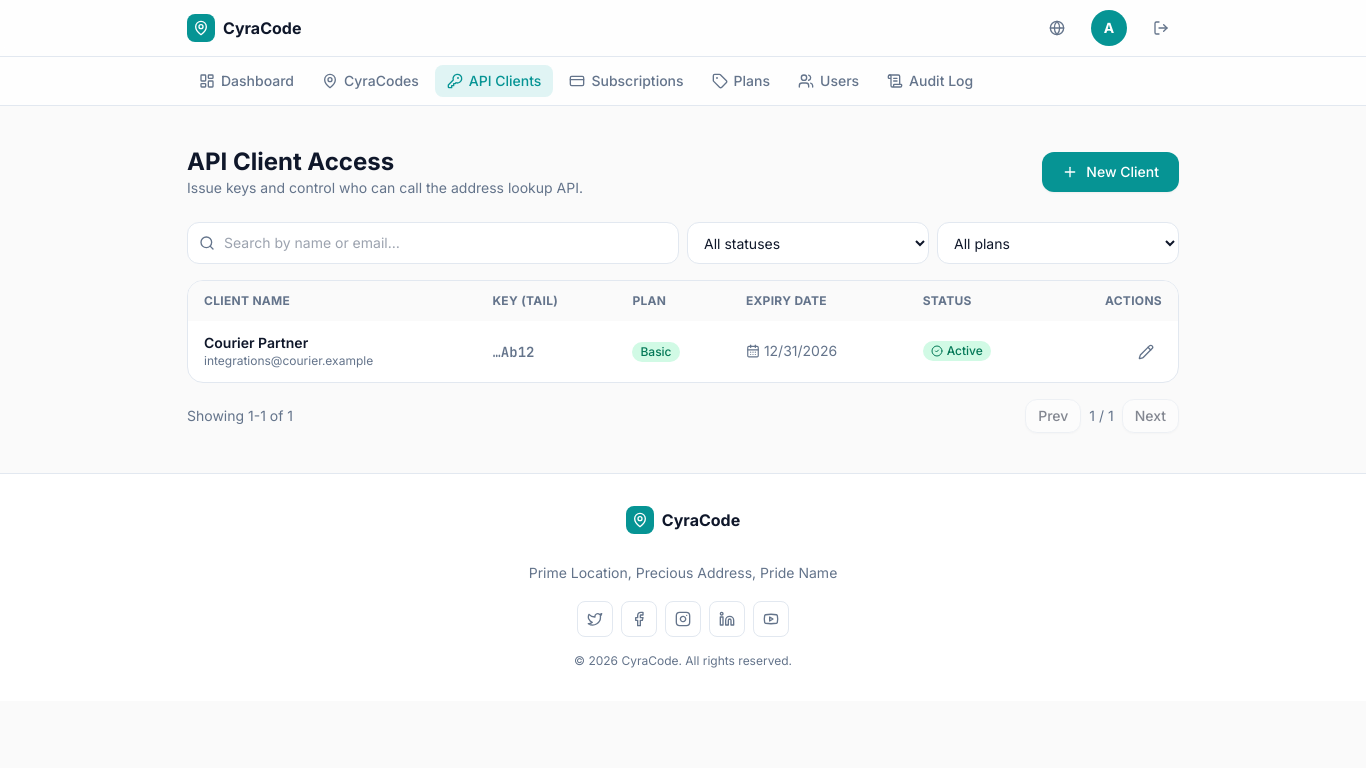
Test: AdminClients › creates a client and reveals the API key exactly once
The image size is (1366, 768).
Expected: the text "Courier Partner" is shown, [204,334,308,351]
Click the button "New Client". click: (1111, 172)
box: [1042,152,1179,192]
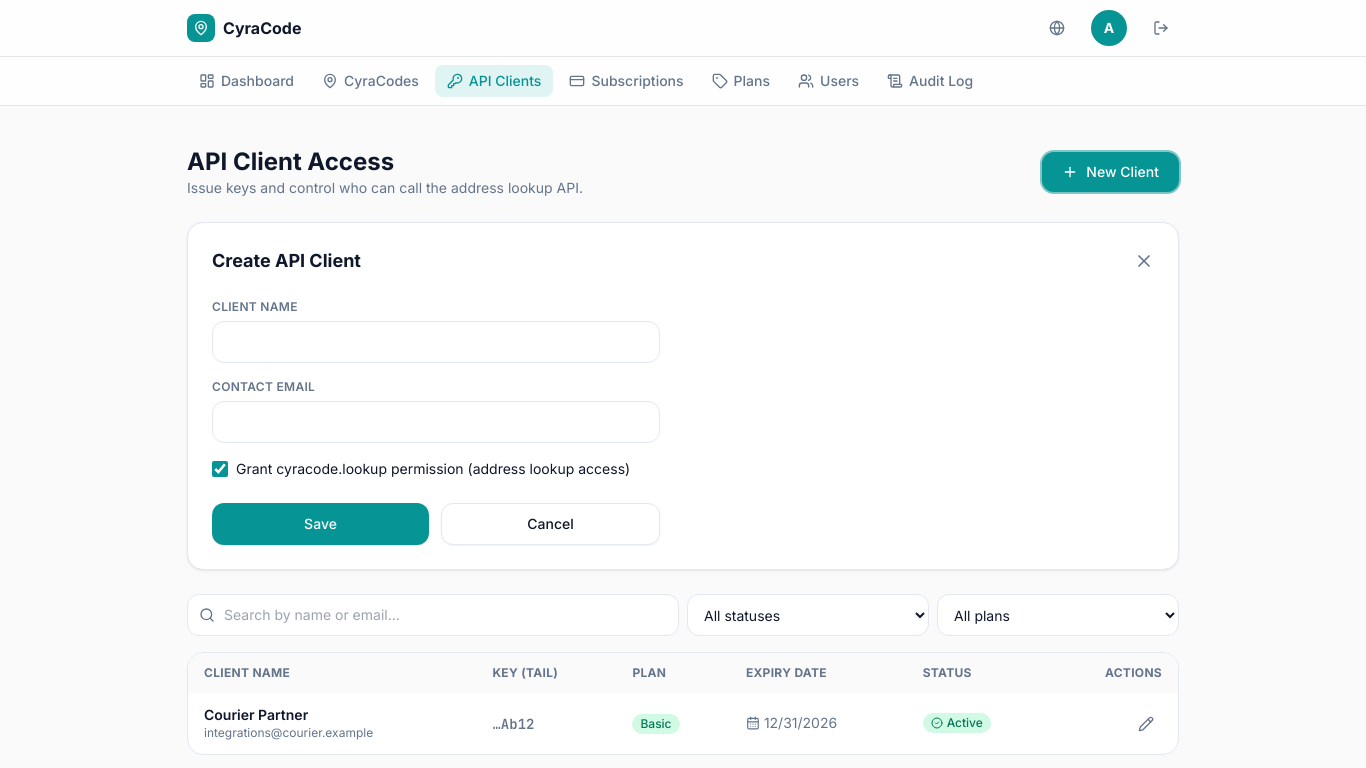
Type "Logistics Co" into the field labelled "Client name". click: (436, 342)
box: [212,321,660,363]
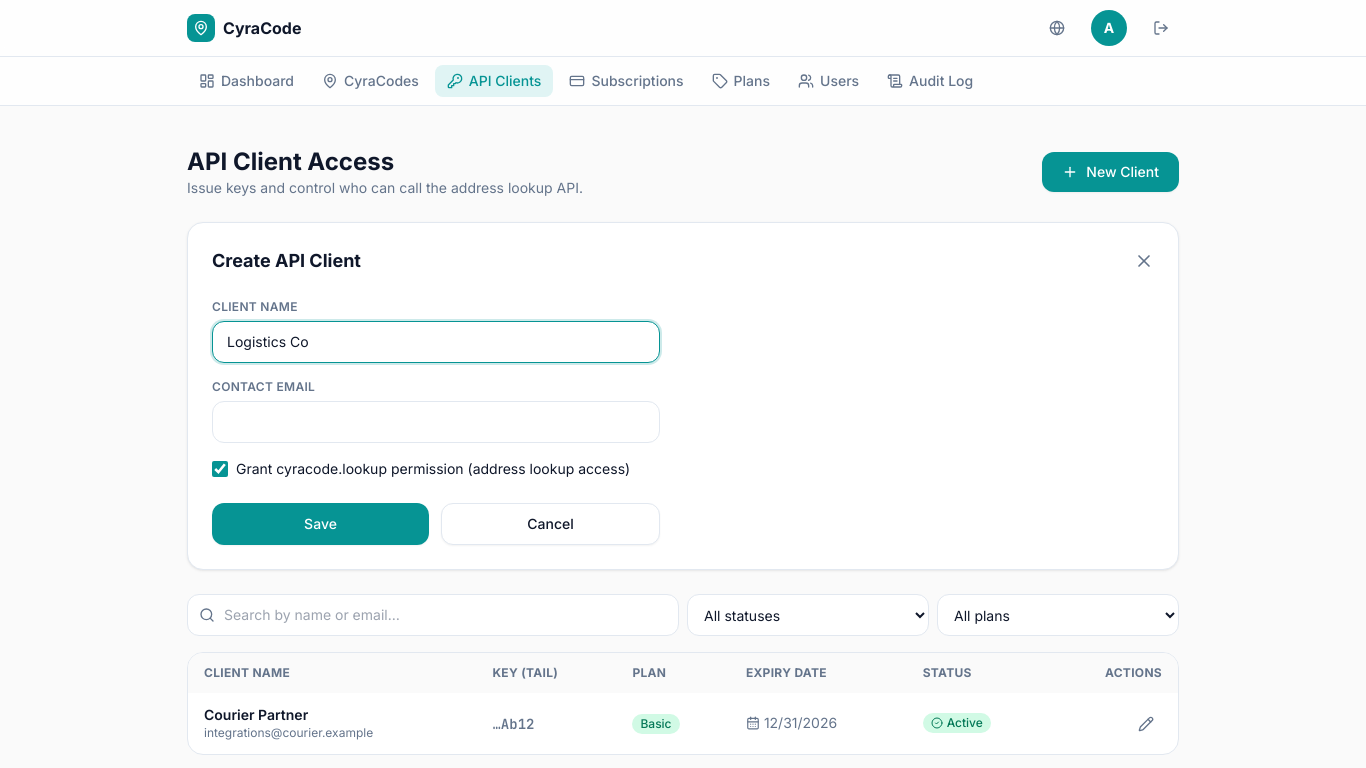
Type "ops@logistics.example" into the field labelled "Contact email". click: (436, 422)
box: [212,401,660,443]
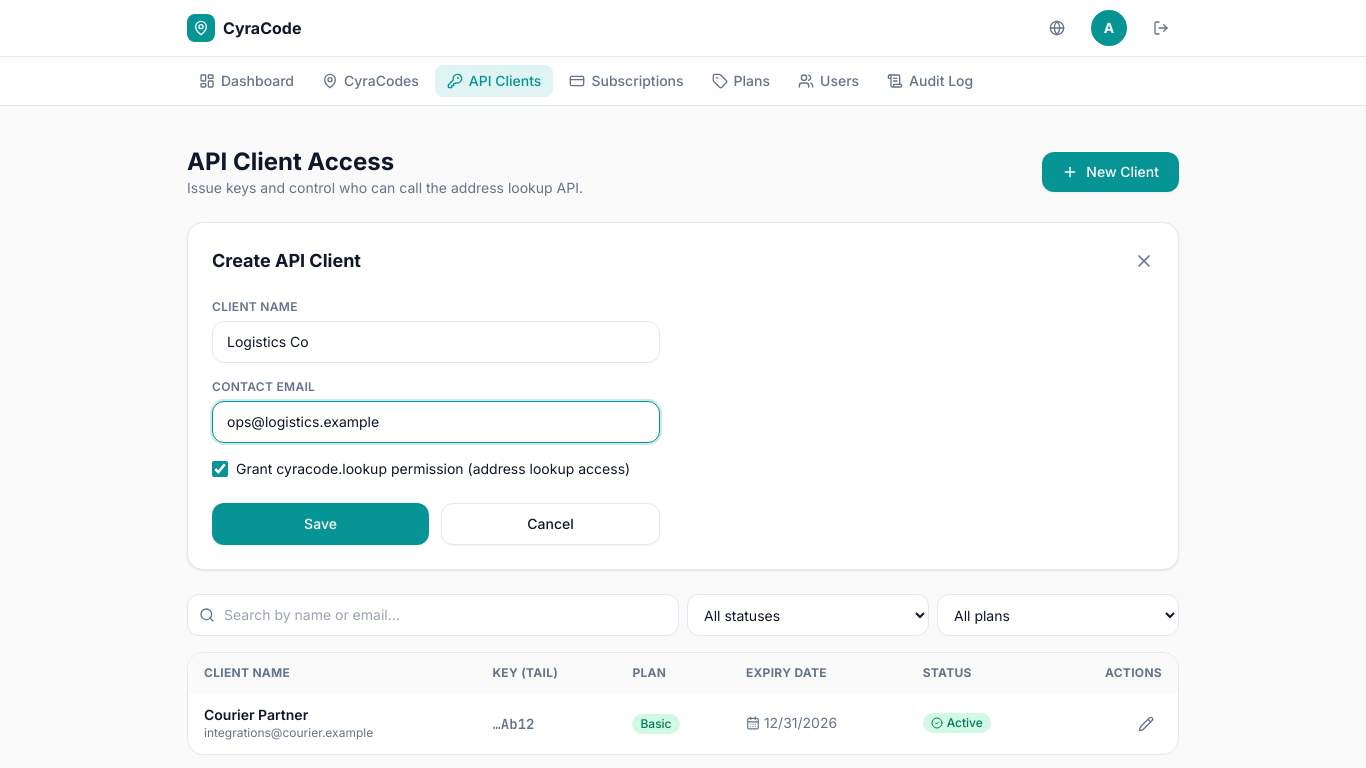
Click the button "Save". click: (320, 524)
box: [212,503,429,545]
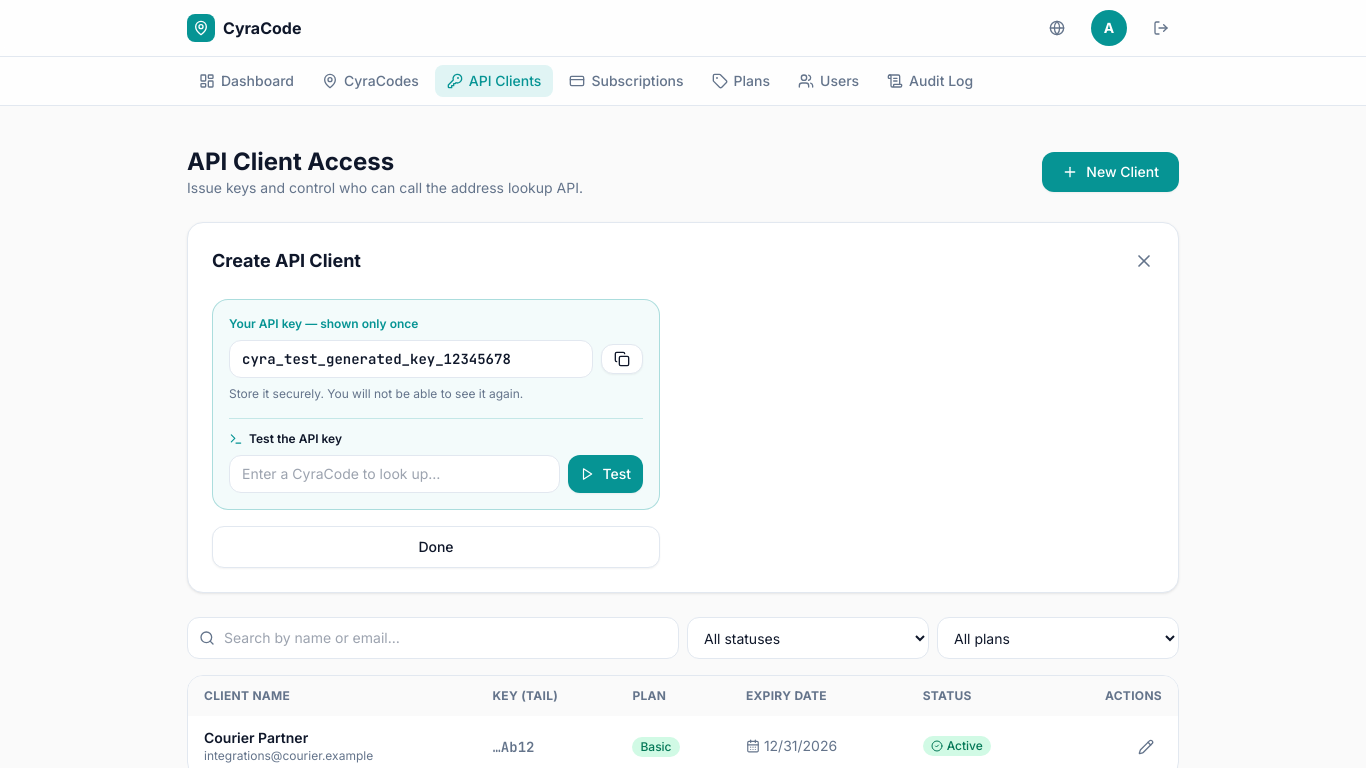
Now the text "cyra_test_generated_key_12345678" is shown, box [229,340,593,378]
Now the text "Your API key — shown only once" is shown, box [229,316,418,331]
Click the button "Done". click: (436, 547)
box: [212,526,660,568]
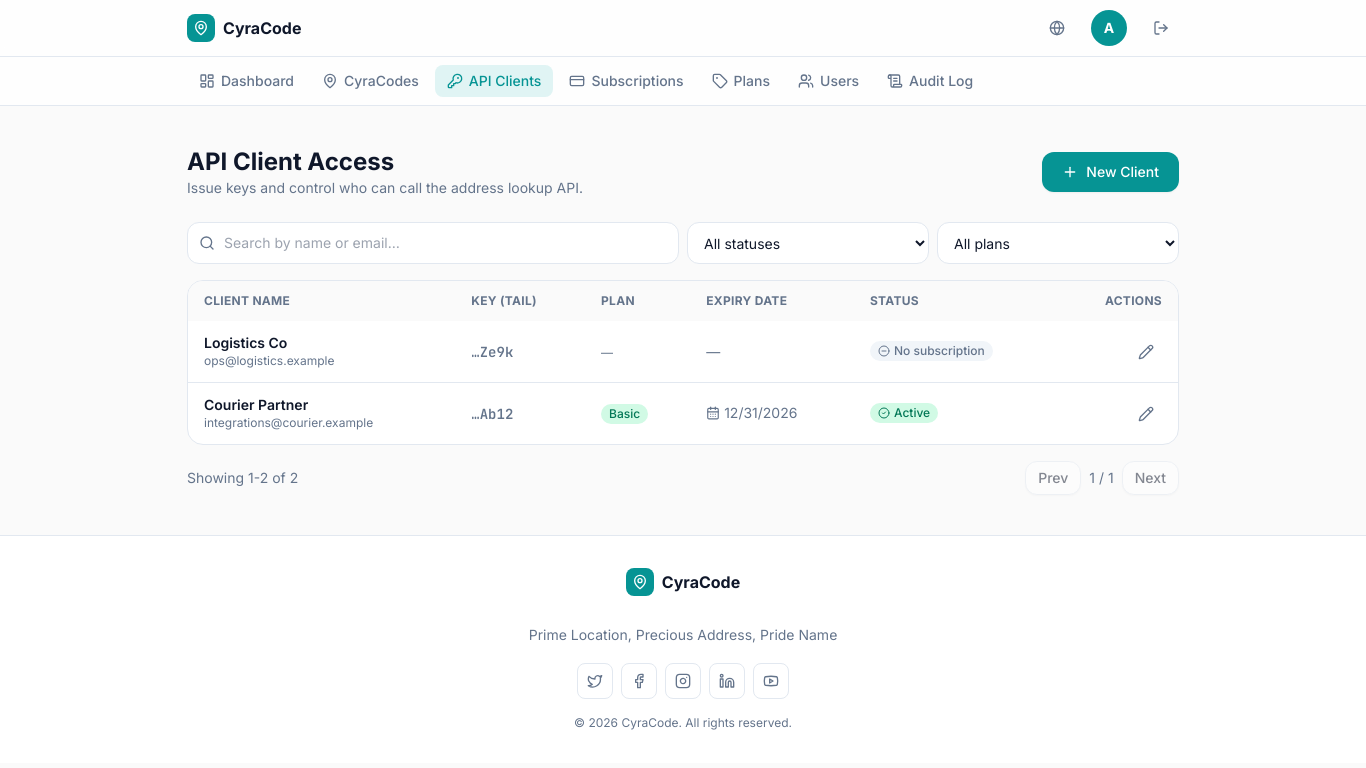
Now the text "Logistics Co" is shown, box [204,334,287,351]
Now the text "cyra_test_generated_key_12345678" is gone
